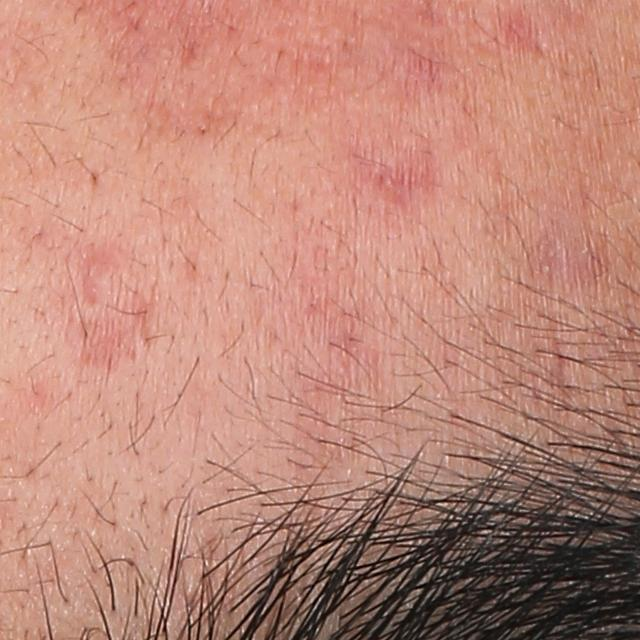atrophic_scar: (346, 140, 442, 207), (75, 237, 135, 313)
